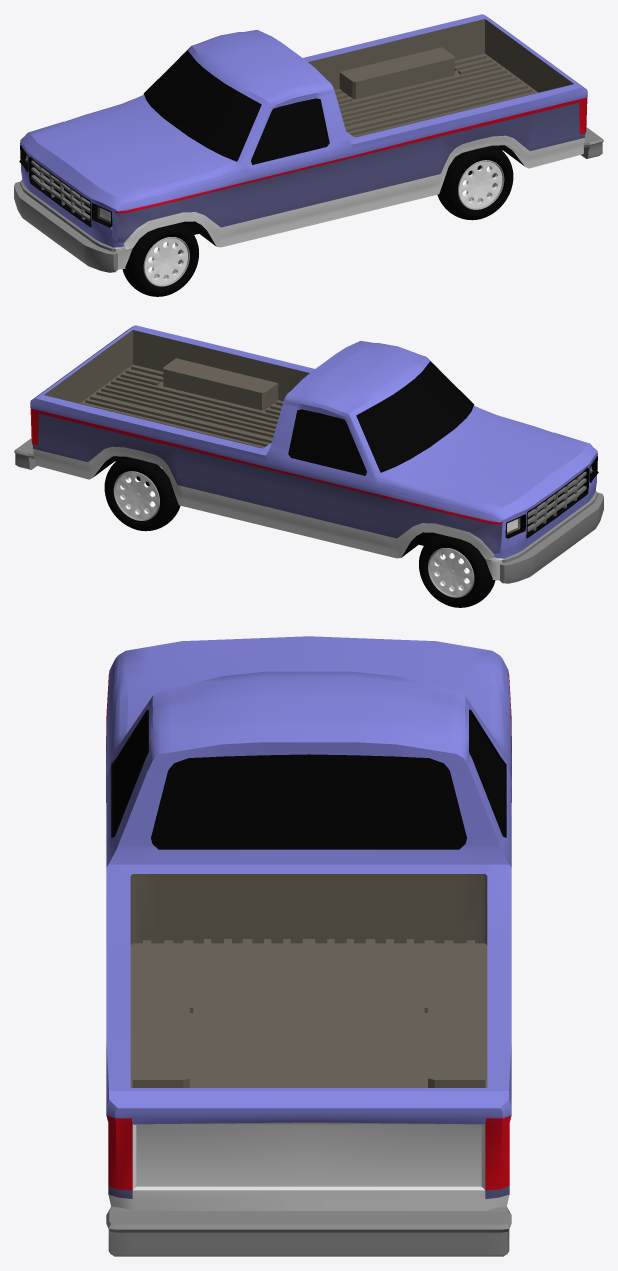
The model's file is Ford F-150 Ranger.fbx.
3 views of the same model, one above another, from view 1: azimuth 30°, elevation 25°; view 2: azimuth 150°, elevation 25°; view 3: azimuth 270°, elevation 25° (orthographic). The views are drawn at different scales.
Parts seen in each view (by area): view 1: Frame, Tires, Grill; view 2: Frame, Tires, Grill; view 3: Frame.
Part boxes in pixels (box(x1,y1,x2,y2)): Frame: box(14, 14, 603, 272); Tires: box(122, 145, 513, 296); Grill: box(31, 160, 90, 220); Frame: box(14, 325, 603, 583); Tires: box(104, 456, 495, 607); Grill: box(527, 471, 586, 531); Frame: box(106, 636, 511, 1256).
Size of what is drawn, in the model's own units: 338 by 111 by 118.
